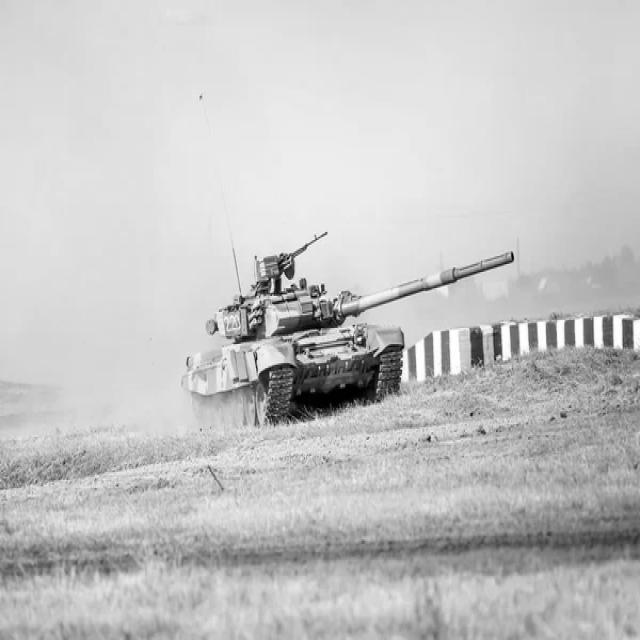Tank: (177, 217, 519, 447)
